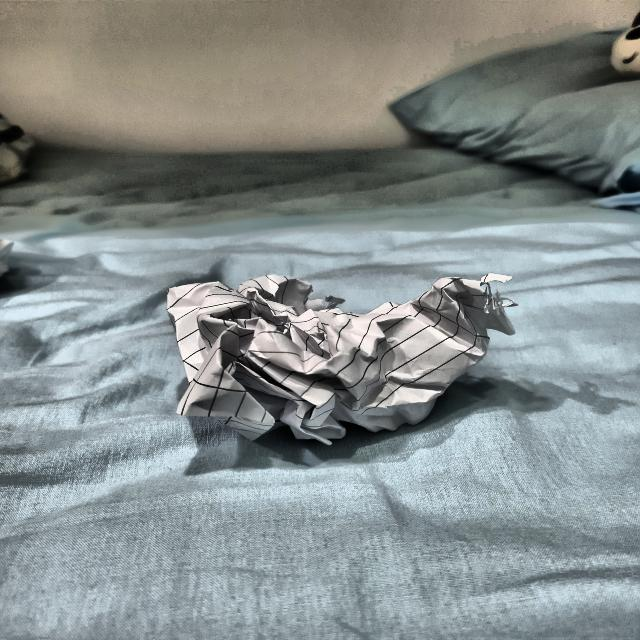Paper: (164, 264, 515, 446)
